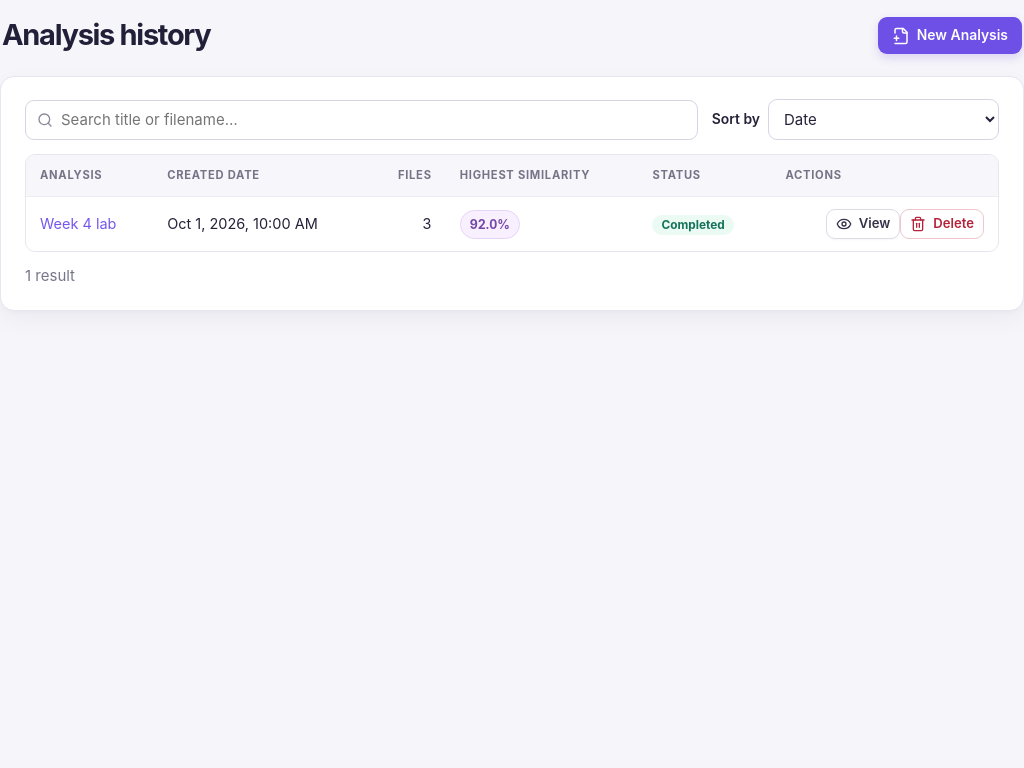
Test case: History page › keeps the dialog open and shows the error when deletion fails
Check: the link "Week 4 lab" is shown, box 40,215 -> 116,232
Click the button with aria-label "Delete Week 4 lab": {"x": 942, "y": 224} 900,209 -> 984,239
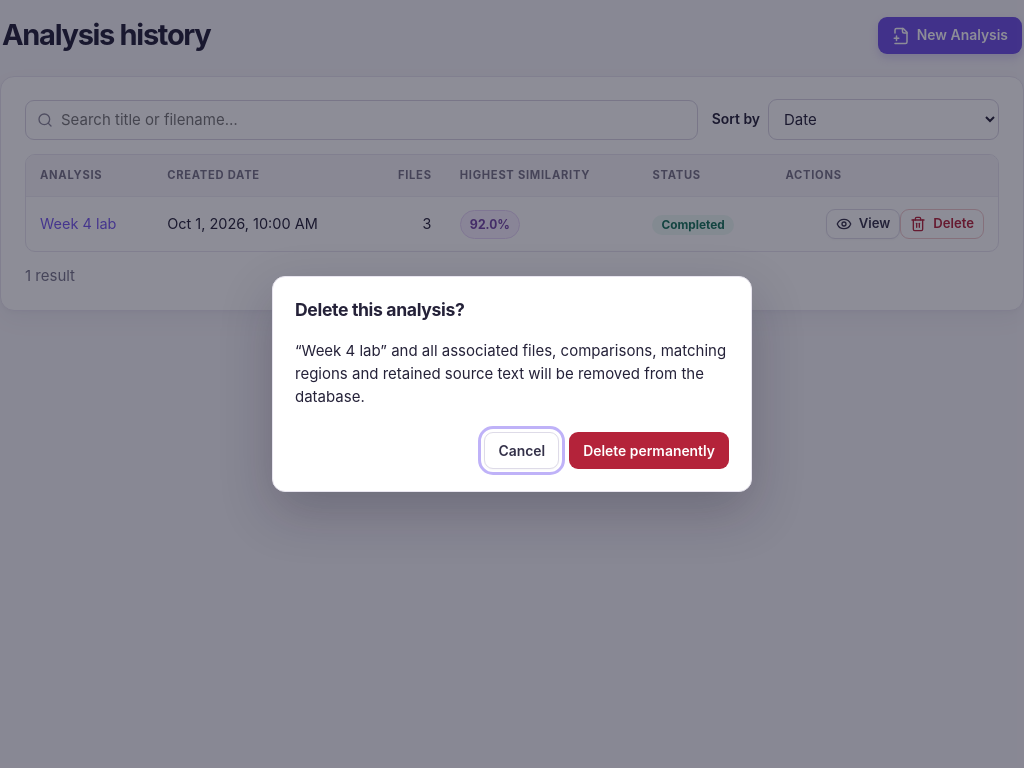
Click the button "Delete permanently": {"x": 649, "y": 451} 569,432 -> 729,469
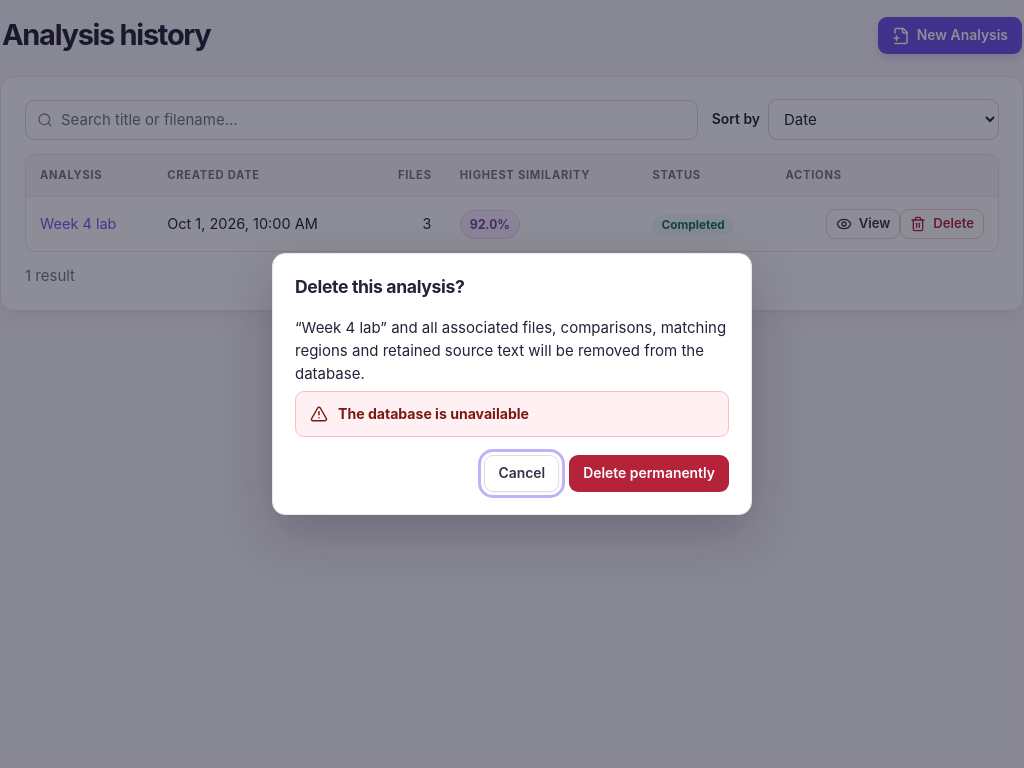
Check: the text "The database is unavailable" is shown, box 338,406 -> 529,422
